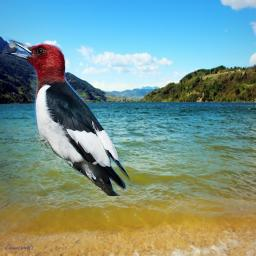Woodpecker: (2, 36, 134, 196)
